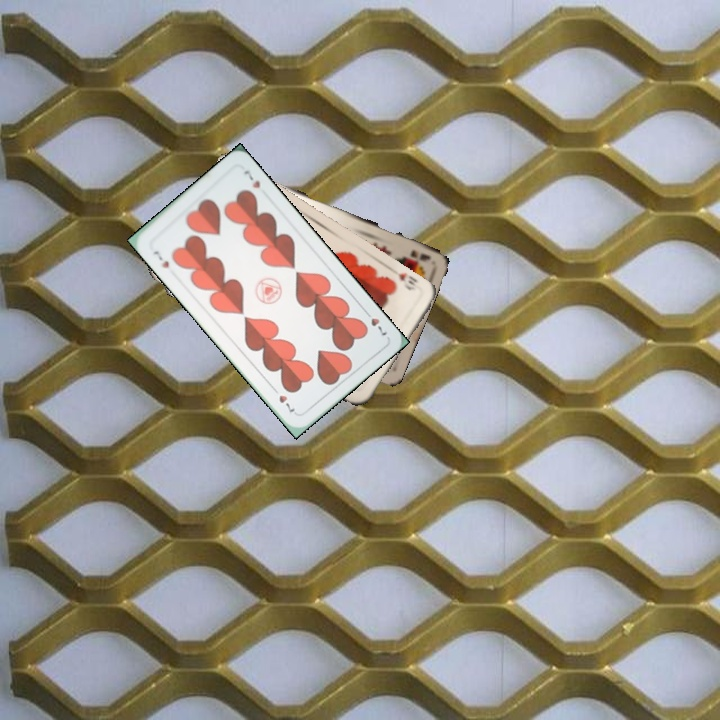H10: (388, 265, 419, 293)
H7: (360, 305, 390, 338), (149, 246, 172, 271)
SK: (406, 246, 433, 264)
